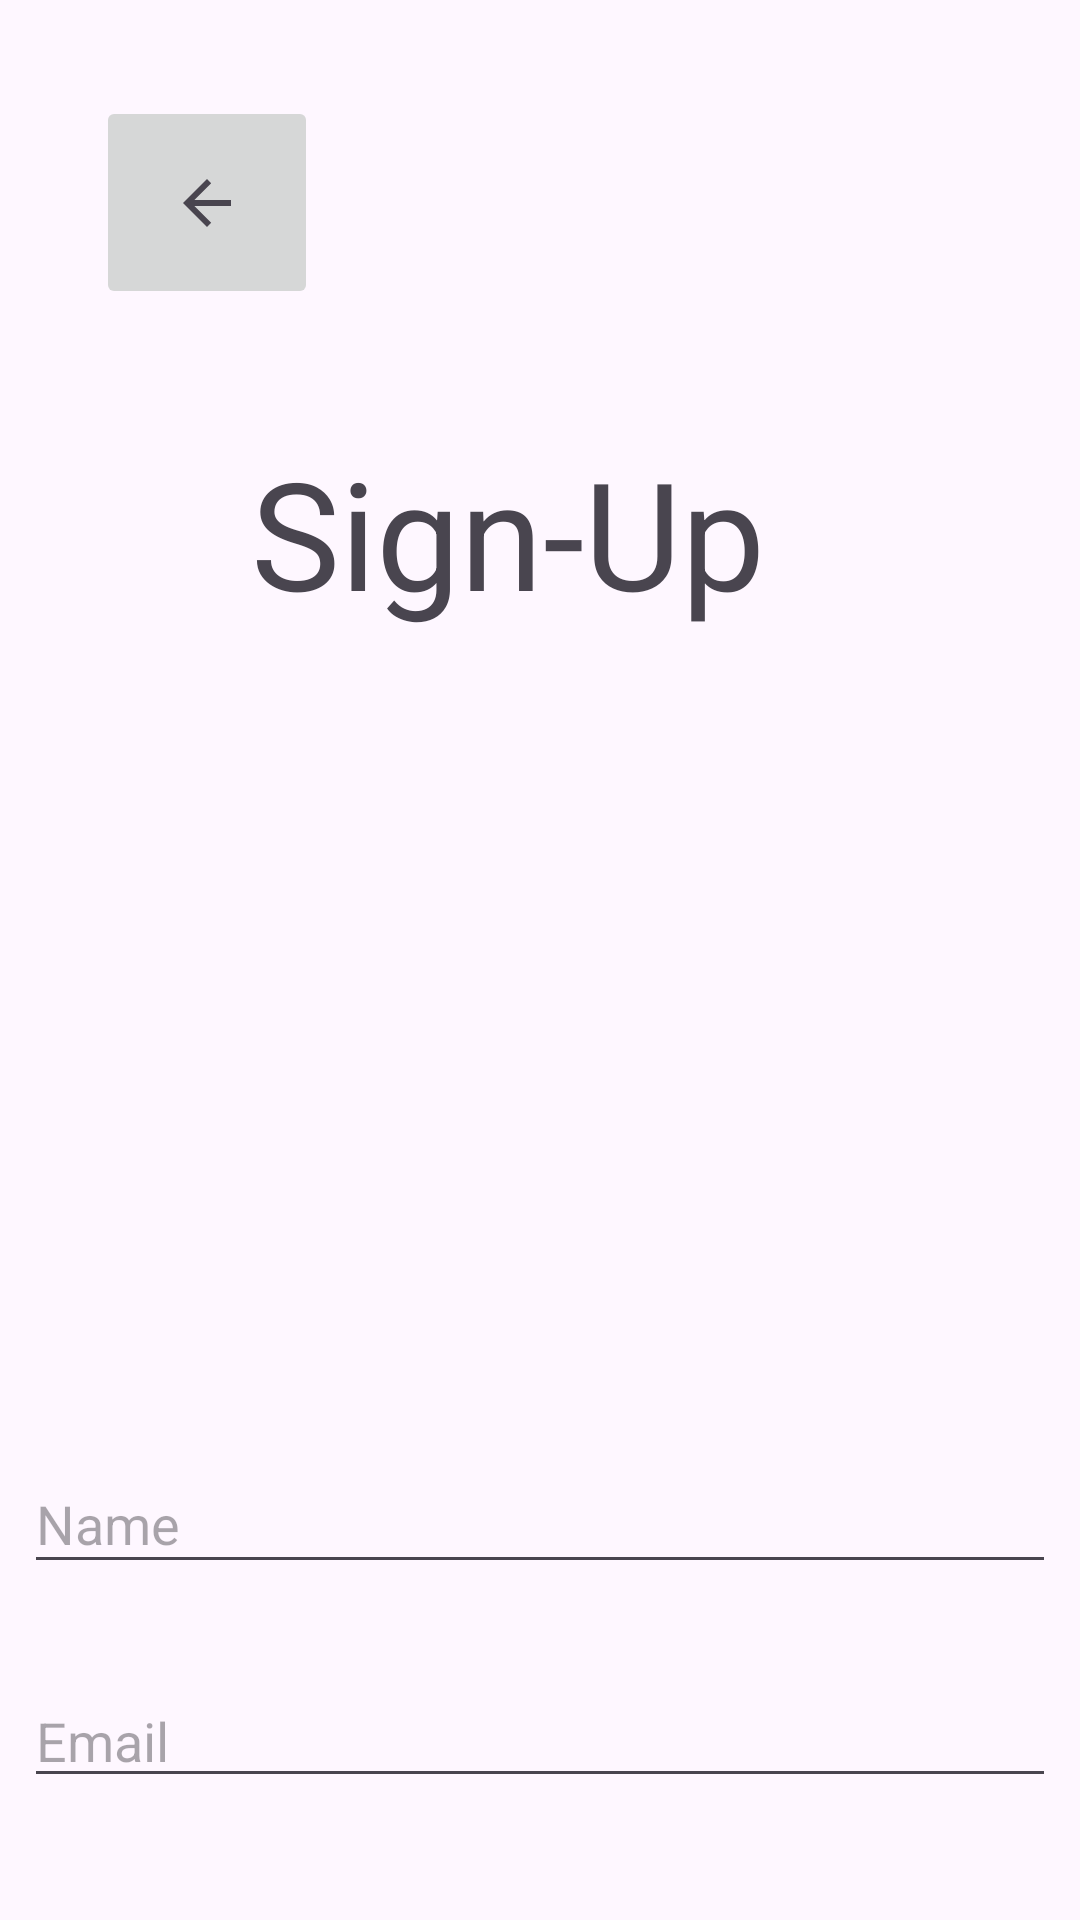

Icons on this 1080 x 1920 Android screen, each with the point to tap as (x,y):
Back to Main: (207,202)
